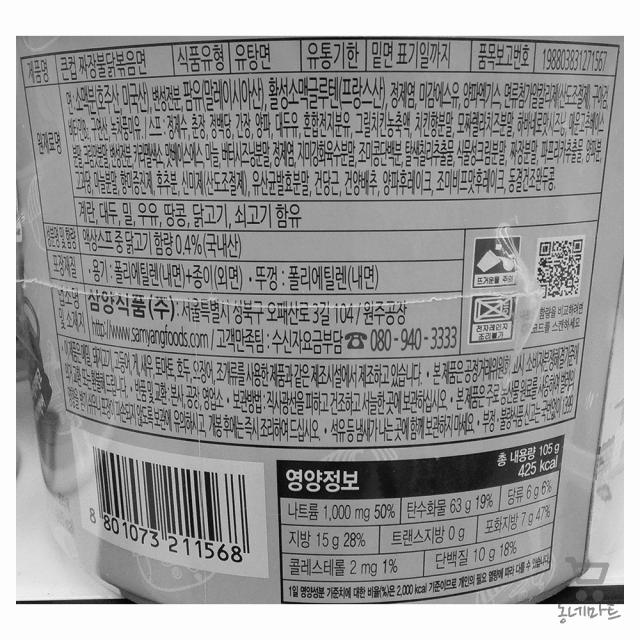Nutrition Label: (273, 440, 565, 613)
